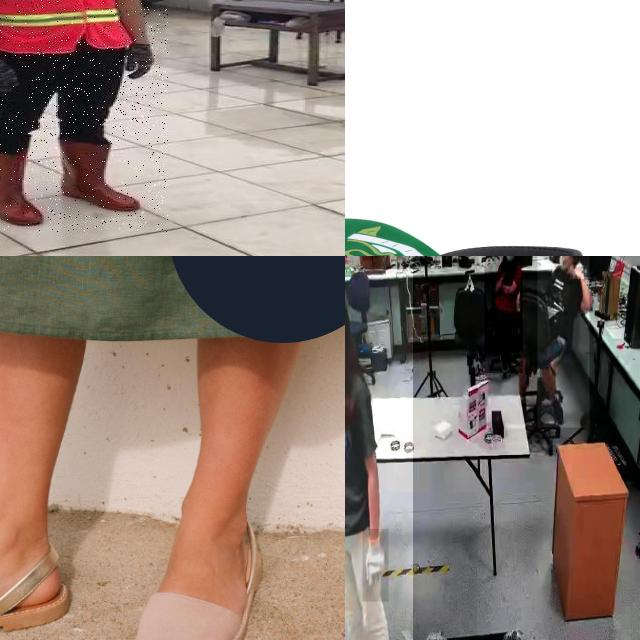Sandals: (126, 498, 260, 640), (0, 530, 72, 640)
boots: (57, 135, 149, 213), (0, 144, 47, 226)
face_mask: (502, 256, 517, 268)
hand_glove: (363, 528, 389, 602)
hand_noglove: (570, 265, 584, 280), (501, 266, 511, 279)
person: (0, 0, 168, 232), (345, 269, 413, 640), (537, 256, 590, 428), (484, 256, 523, 374)
vest: (0, 0, 133, 53)
